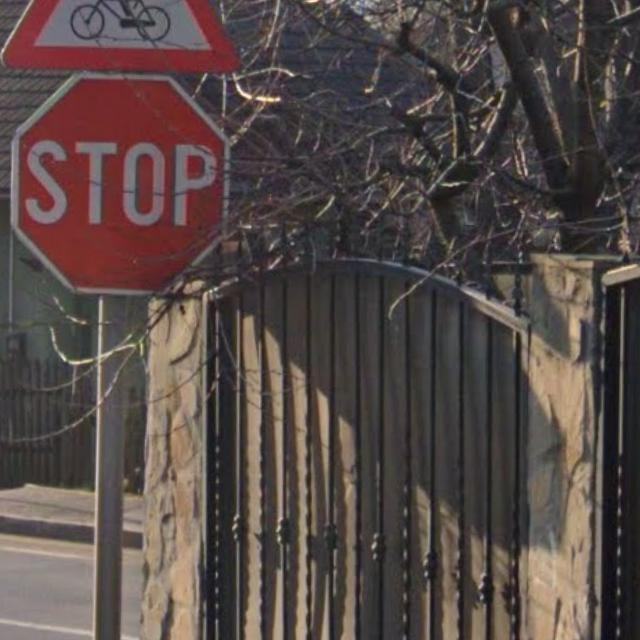prio_stop: (13, 72, 228, 293)
